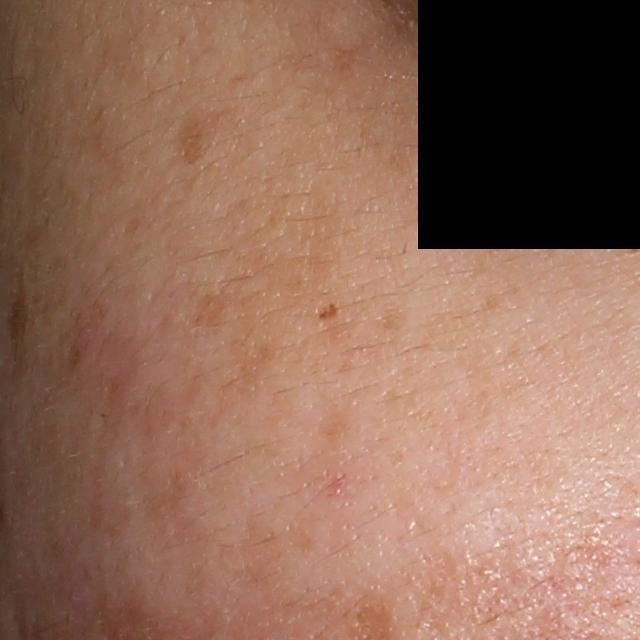melasma: (218, 329, 285, 403), (173, 105, 230, 160), (190, 285, 242, 337), (316, 398, 361, 453), (380, 302, 414, 336), (314, 297, 342, 322)
